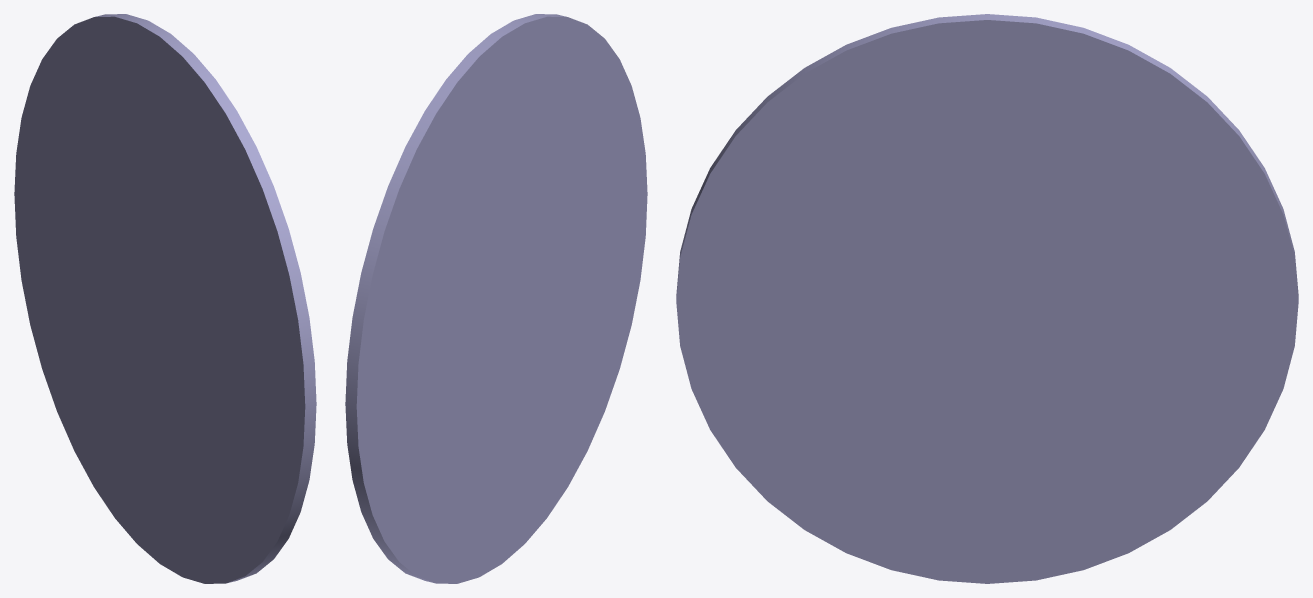
Rendered from Disk_Game_S_02.fbx.
3 views of the same model, side by side, from view 1: azimuth 30°, elevation 25°; view 2: azimuth 150°, elevation 25°; view 3: azimuth 270°, elevation 25° (orthographic). The views are drawn at different scales.
Parts seen in each view (by area): view 1: Disk_Game_S_02; view 2: Disk_Game_S_02; view 3: Disk_Game_S_02.
Boxes of the visible parts, box(x1,y1,x2,y2) form: Disk_Game_S_02: box(14, 14, 316, 583); Disk_Game_S_02: box(345, 14, 647, 583); Disk_Game_S_02: box(676, 14, 1298, 583).
Bounding box in the file's own units: 1.13 × 50.44 × 50.44.
